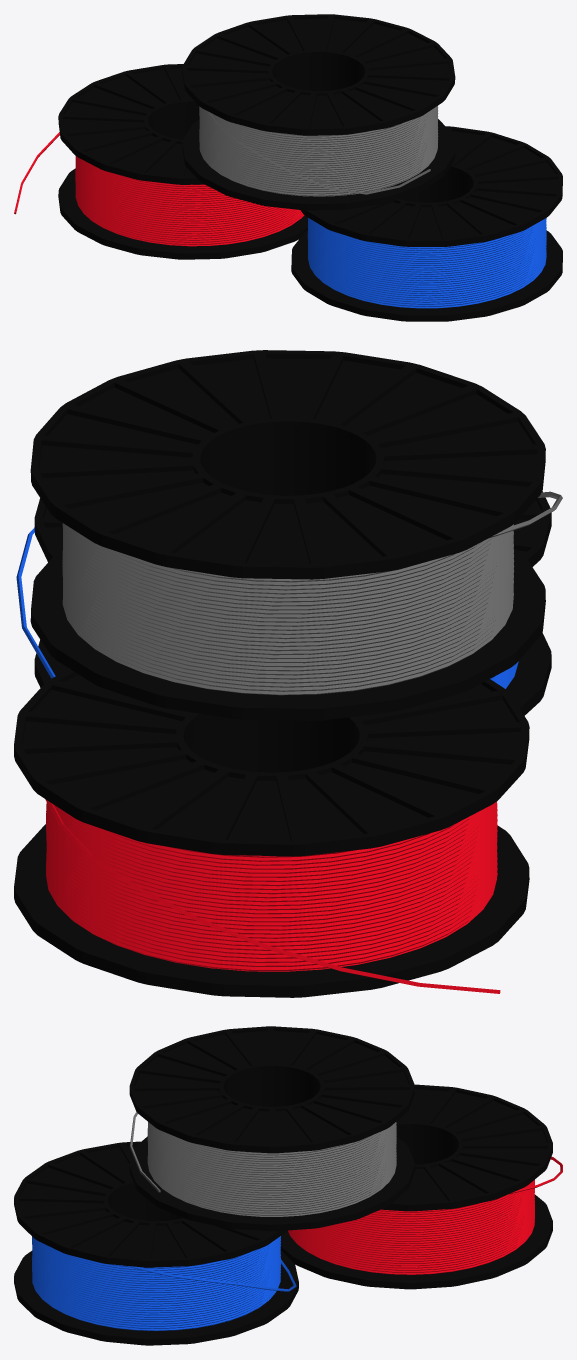
3 renders of one model, top to bottom at view 1: azimuth 30°, elevation 25°; view 2: azimuth 150°, elevation 25°; view 3: azimuth 270°, elevation 25°, orthographic. The views are drawn at different scales.
Visible parts, largest first — view 1: pCylinder1.001, pasted__pCylinder1, pCylinder1, pHelix1.001, pasted__pHelix1, pHelix1; view 2: pCylinder1.001, pCylinder1, pHelix1, pHelix1.001, pasted__pCylinder1, pasted__pHelix1; view 3: pCylinder1.001, pasted__pCylinder1, pCylinder1, pHelix1.001, pasted__pHelix1, pHelix1.
Part boxes in pixels (x1,y1,x2,y2): pCylinder1.001: [182, 14, 455, 210]; pasted__pCylinder1: [291, 126, 562, 321]; pCylinder1: [58, 64, 307, 259]; pHelix1.001: [199, 106, 438, 196]; pasted__pHelix1: [307, 218, 546, 308]; pHelix1: [14, 132, 304, 246]; pCylinder1.001: [30, 350, 545, 720]; pCylinder1: [14, 669, 529, 997]; pHelix1: [45, 799, 500, 993]; pHelix1.001: [62, 491, 562, 695]; pasted__pCylinder1: [34, 491, 551, 715]; pasted__pHelix1: [16, 527, 518, 688]; pCylinder1.001: [129, 1026, 414, 1231]; pasted__pCylinder1: [14, 1141, 298, 1345]; pCylinder1: [280, 1084, 552, 1289]; pHelix1.001: [129, 1112, 396, 1216]; pasted__pHelix1: [32, 1236, 296, 1330]; pHelix1: [288, 1156, 562, 1274].
Bounding box in the file's own units: 1.86 × 0.7733 × 2.23.
